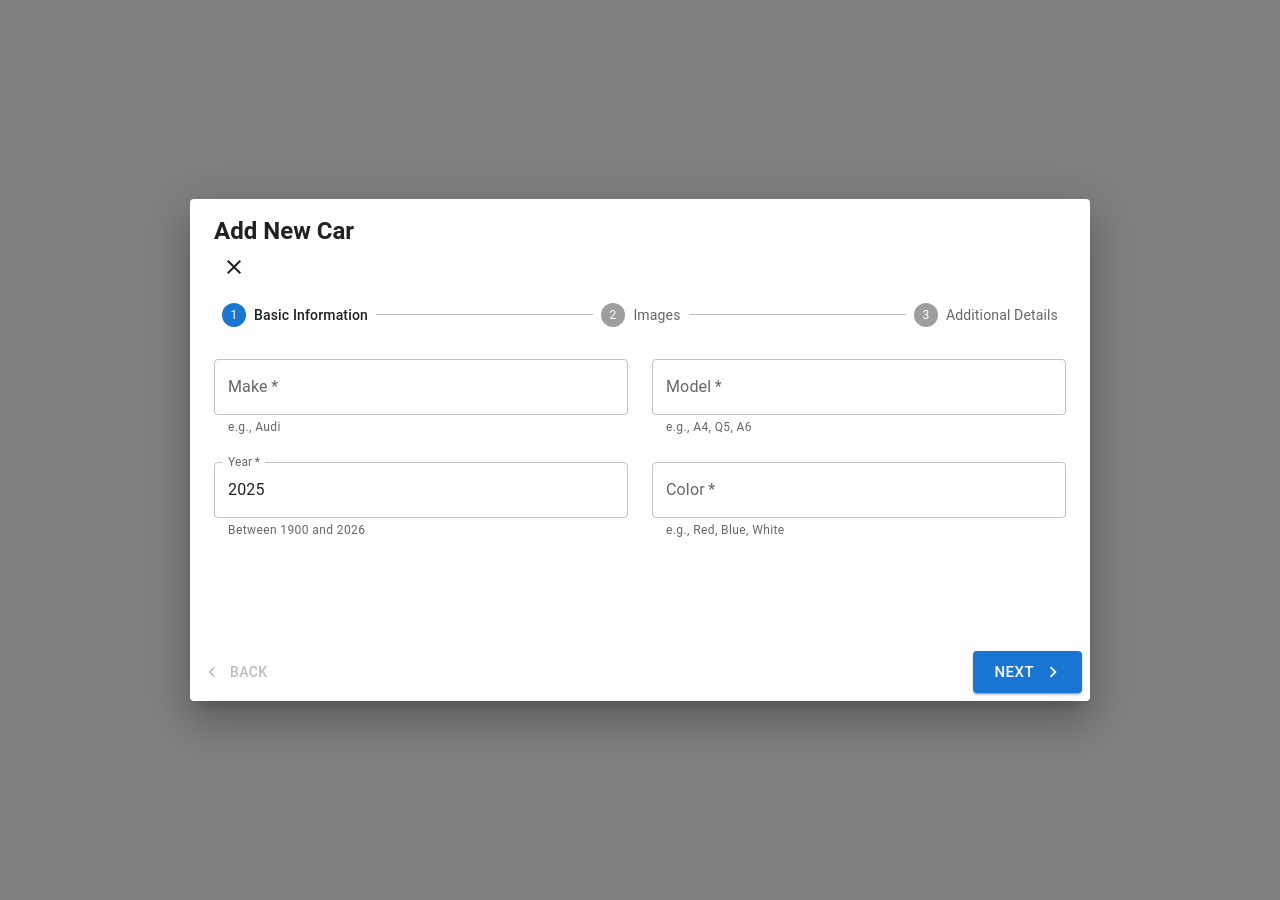
Test: AddCarModal › Navigation › navigates back to previous step
Fill step 0 and go to step 1
In the field labelled "Make *": (421, 387) [214,359,628,415], type "Audi"
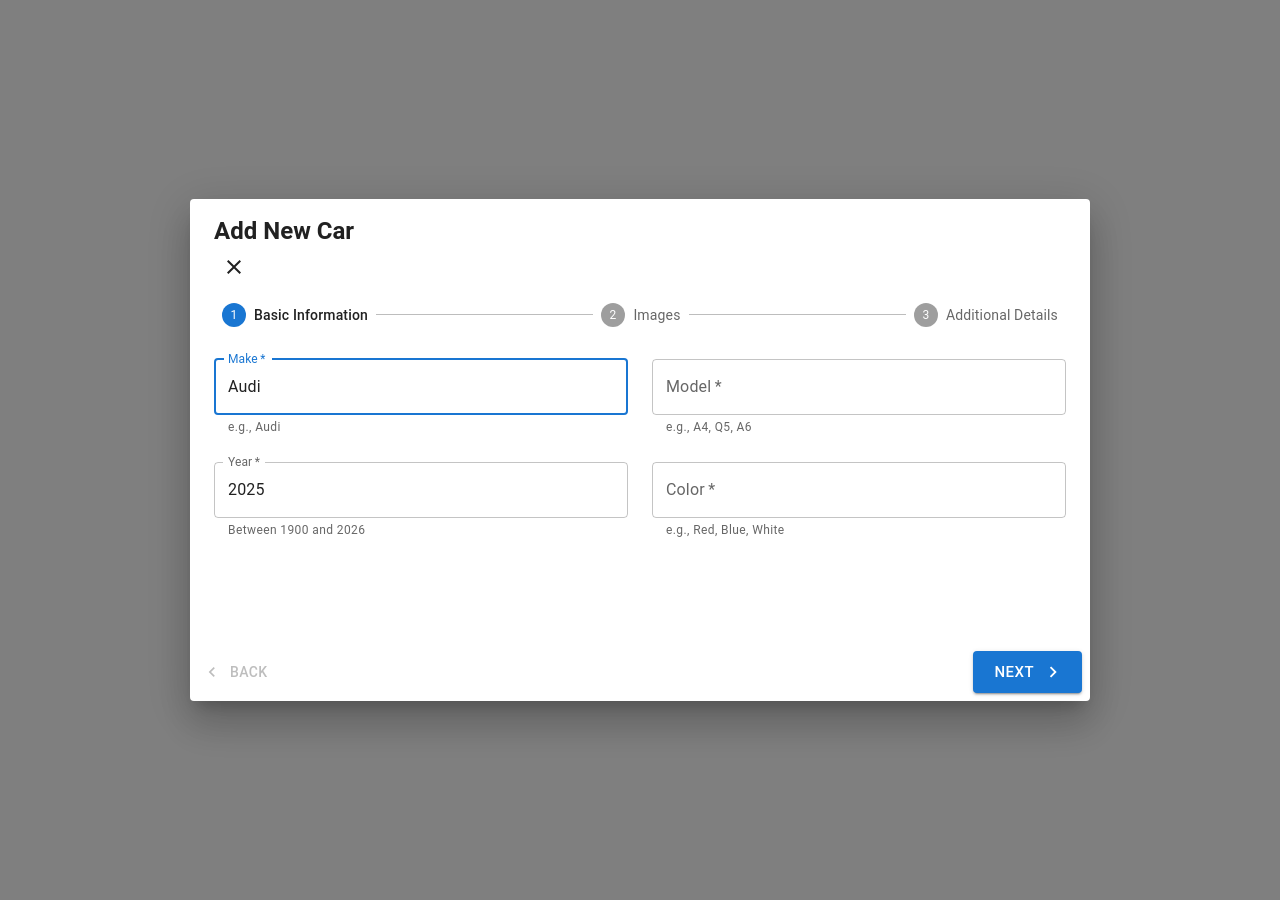
In the field labelled "Model *": (859, 387) [652,359,1066,415], type "Q5"
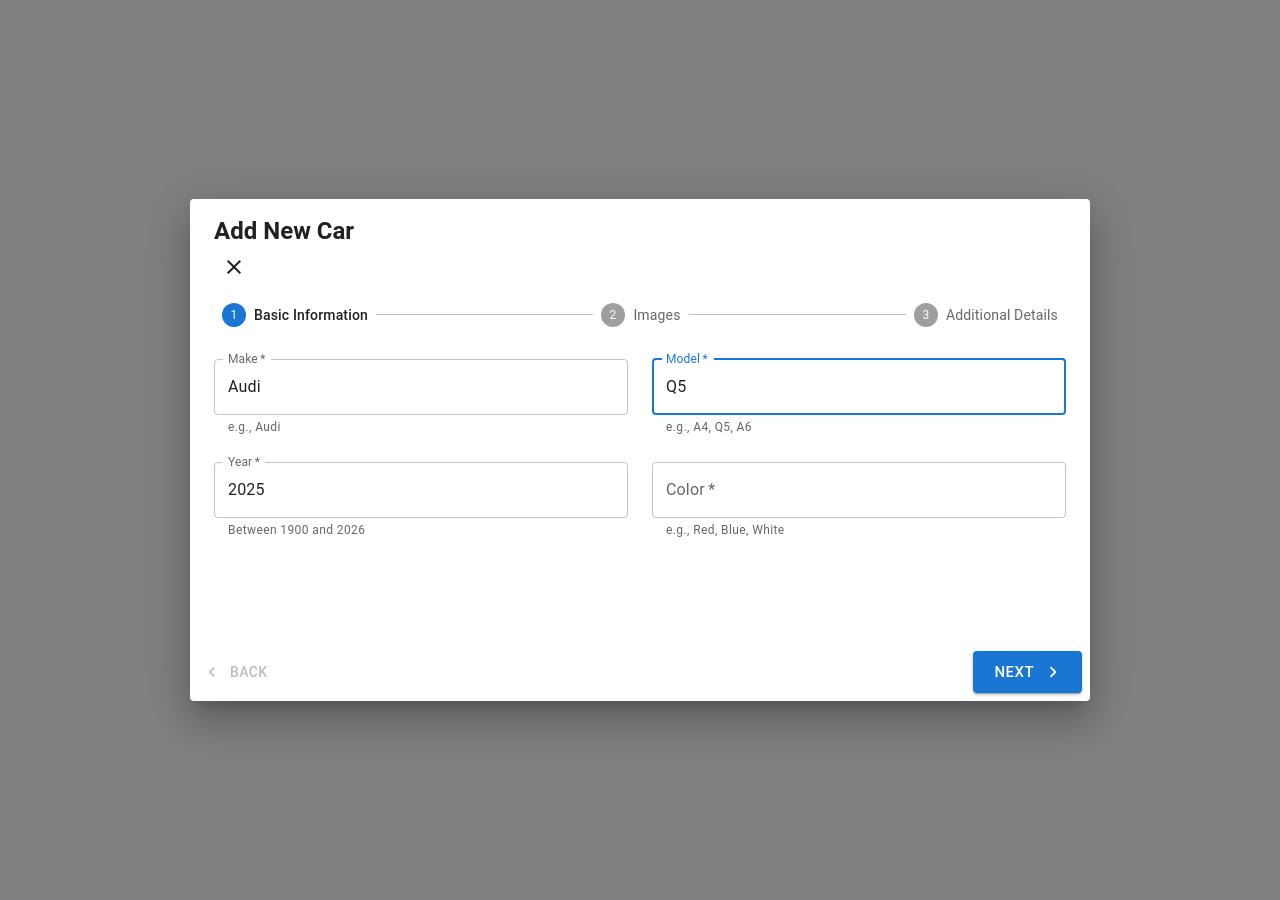
Replace the text in the number field labelled "Year *" with "2023": (421, 490) [214,462,628,518]
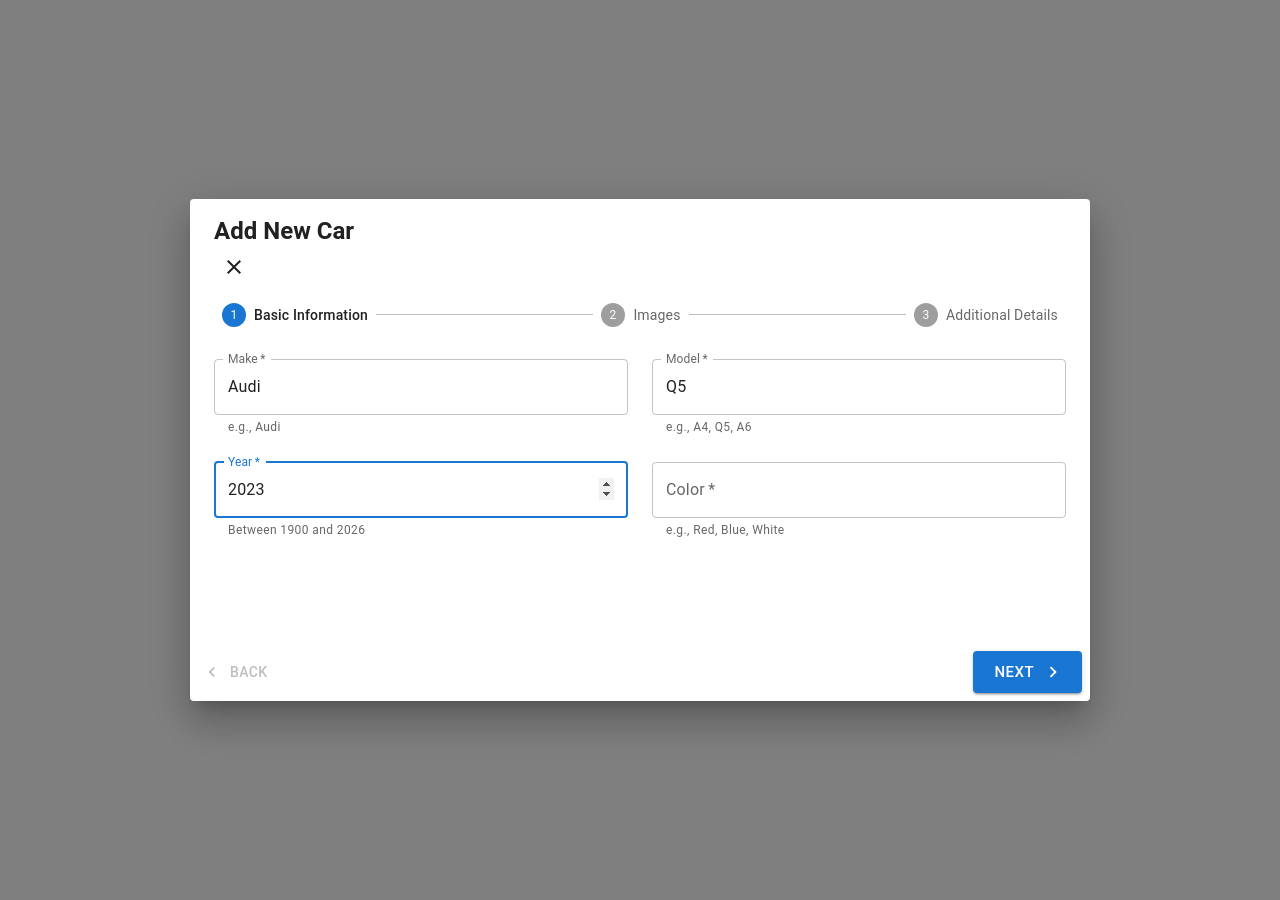
In the field labelled "Color *": (859, 490) [652,462,1066,518], type "Blue"
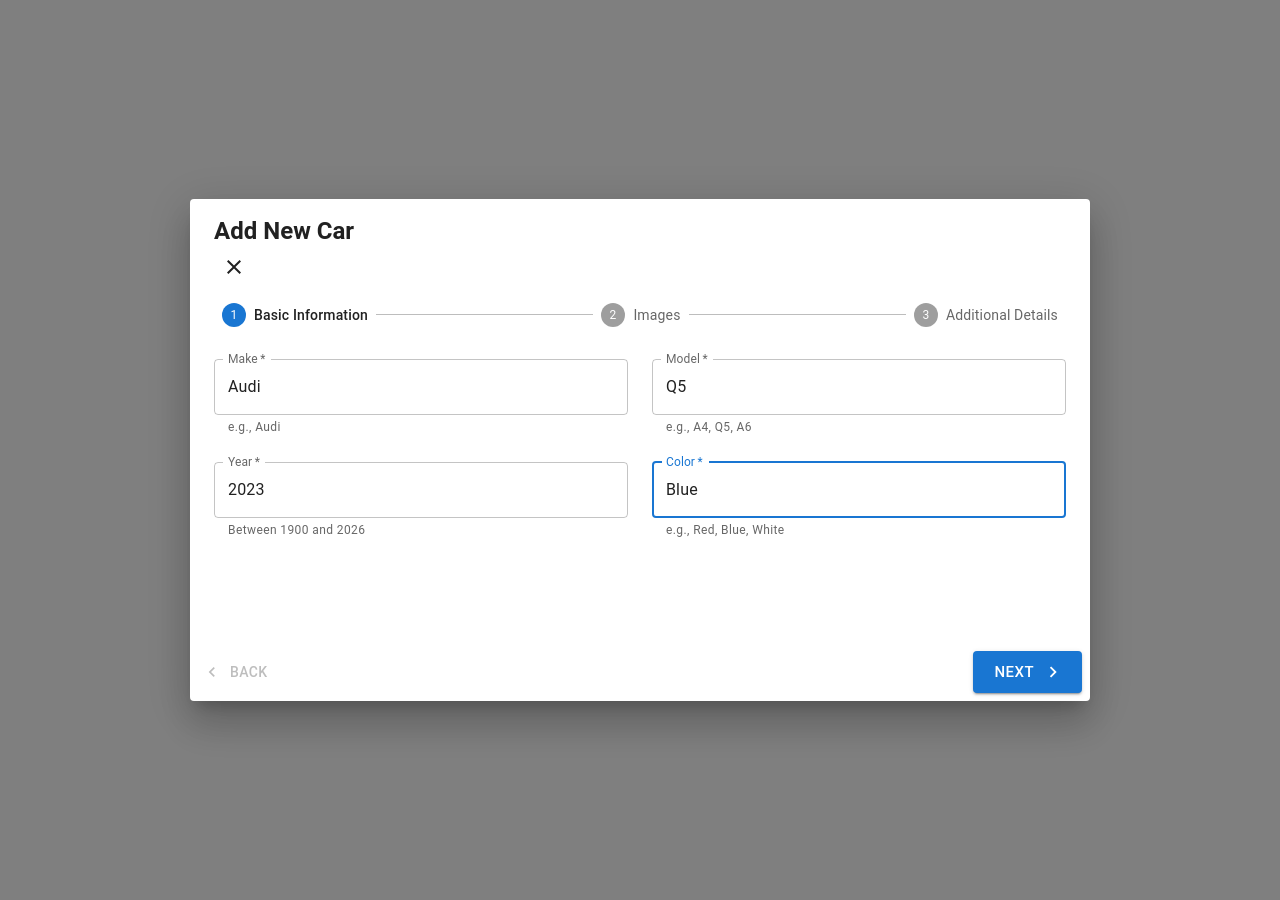
Click the button "Next": (1027, 672) [972,651,1082,693]
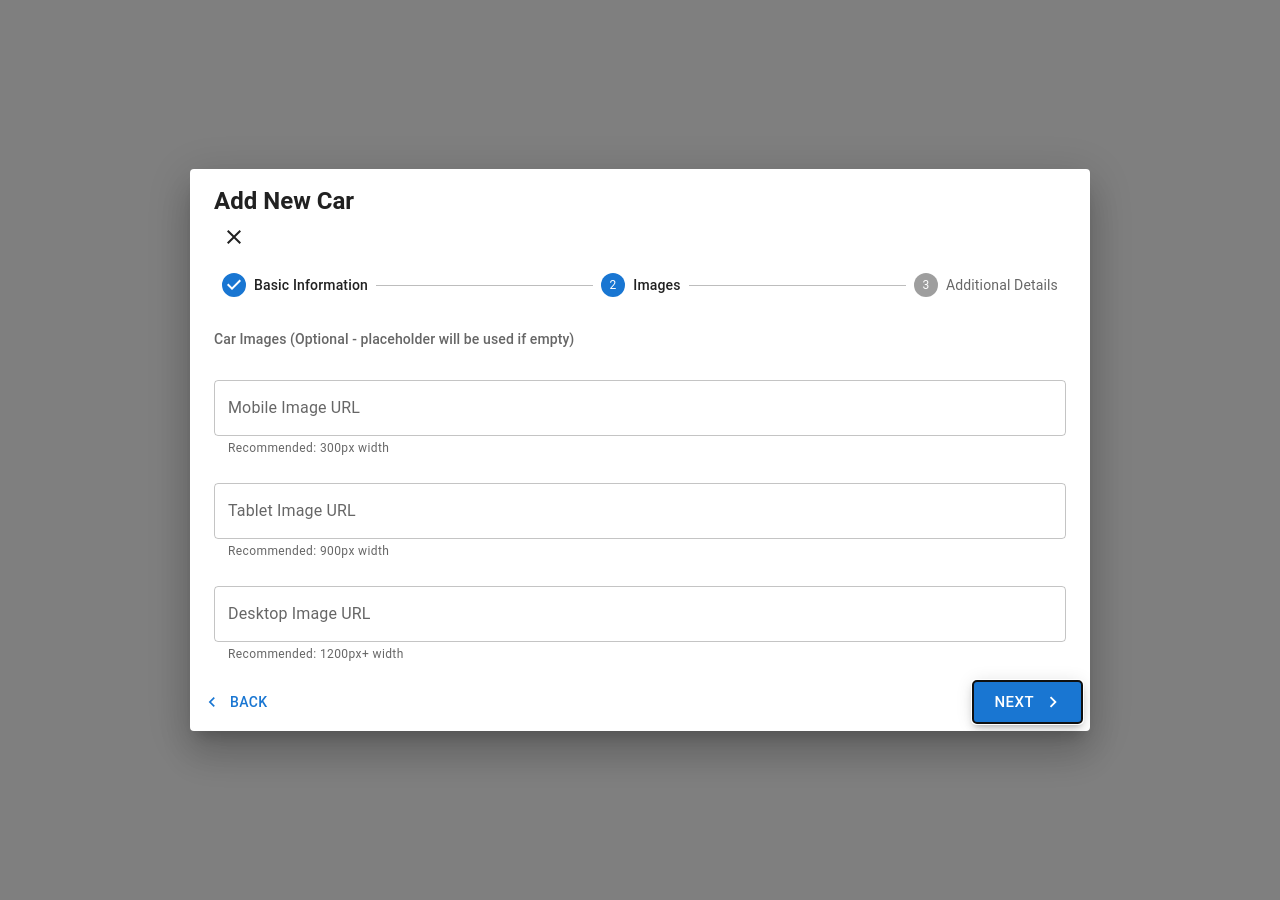
Expected: the heading "Car Images (Optional - placeholder will be used if empty)" is shown, [214,331,574,347]
 Go back
Click the button "Back": (237, 702) [198,684,276,720]
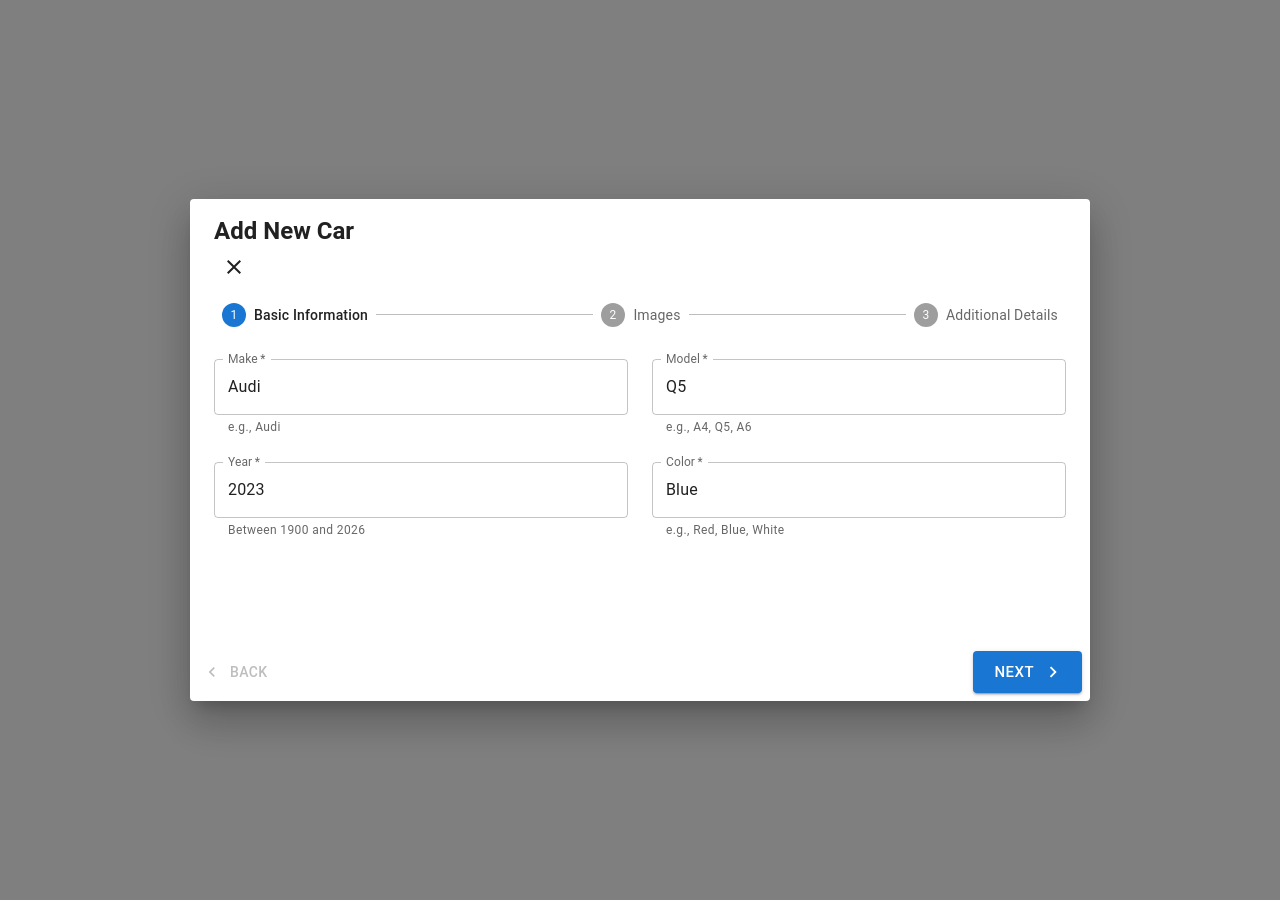
Expected: the field labelled "Make *" is shown, [214,359,628,415]
Expected: the heading "Car Images" is gone
